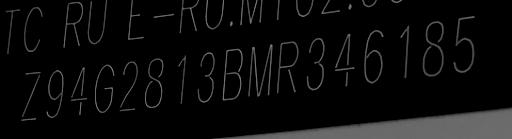letter: (359, 27, 387, 86), (330, 31, 358, 88), (451, 13, 477, 74), (420, 17, 446, 78), (246, 42, 274, 97), (142, 56, 168, 113), (274, 38, 298, 95), (391, 21, 413, 82), (304, 36, 328, 91), (221, 47, 245, 102), (194, 49, 218, 104), (116, 59, 140, 114), (92, 61, 116, 116), (18, 68, 42, 123), (66, 64, 90, 117), (43, 66, 65, 121), (172, 53, 190, 108)
